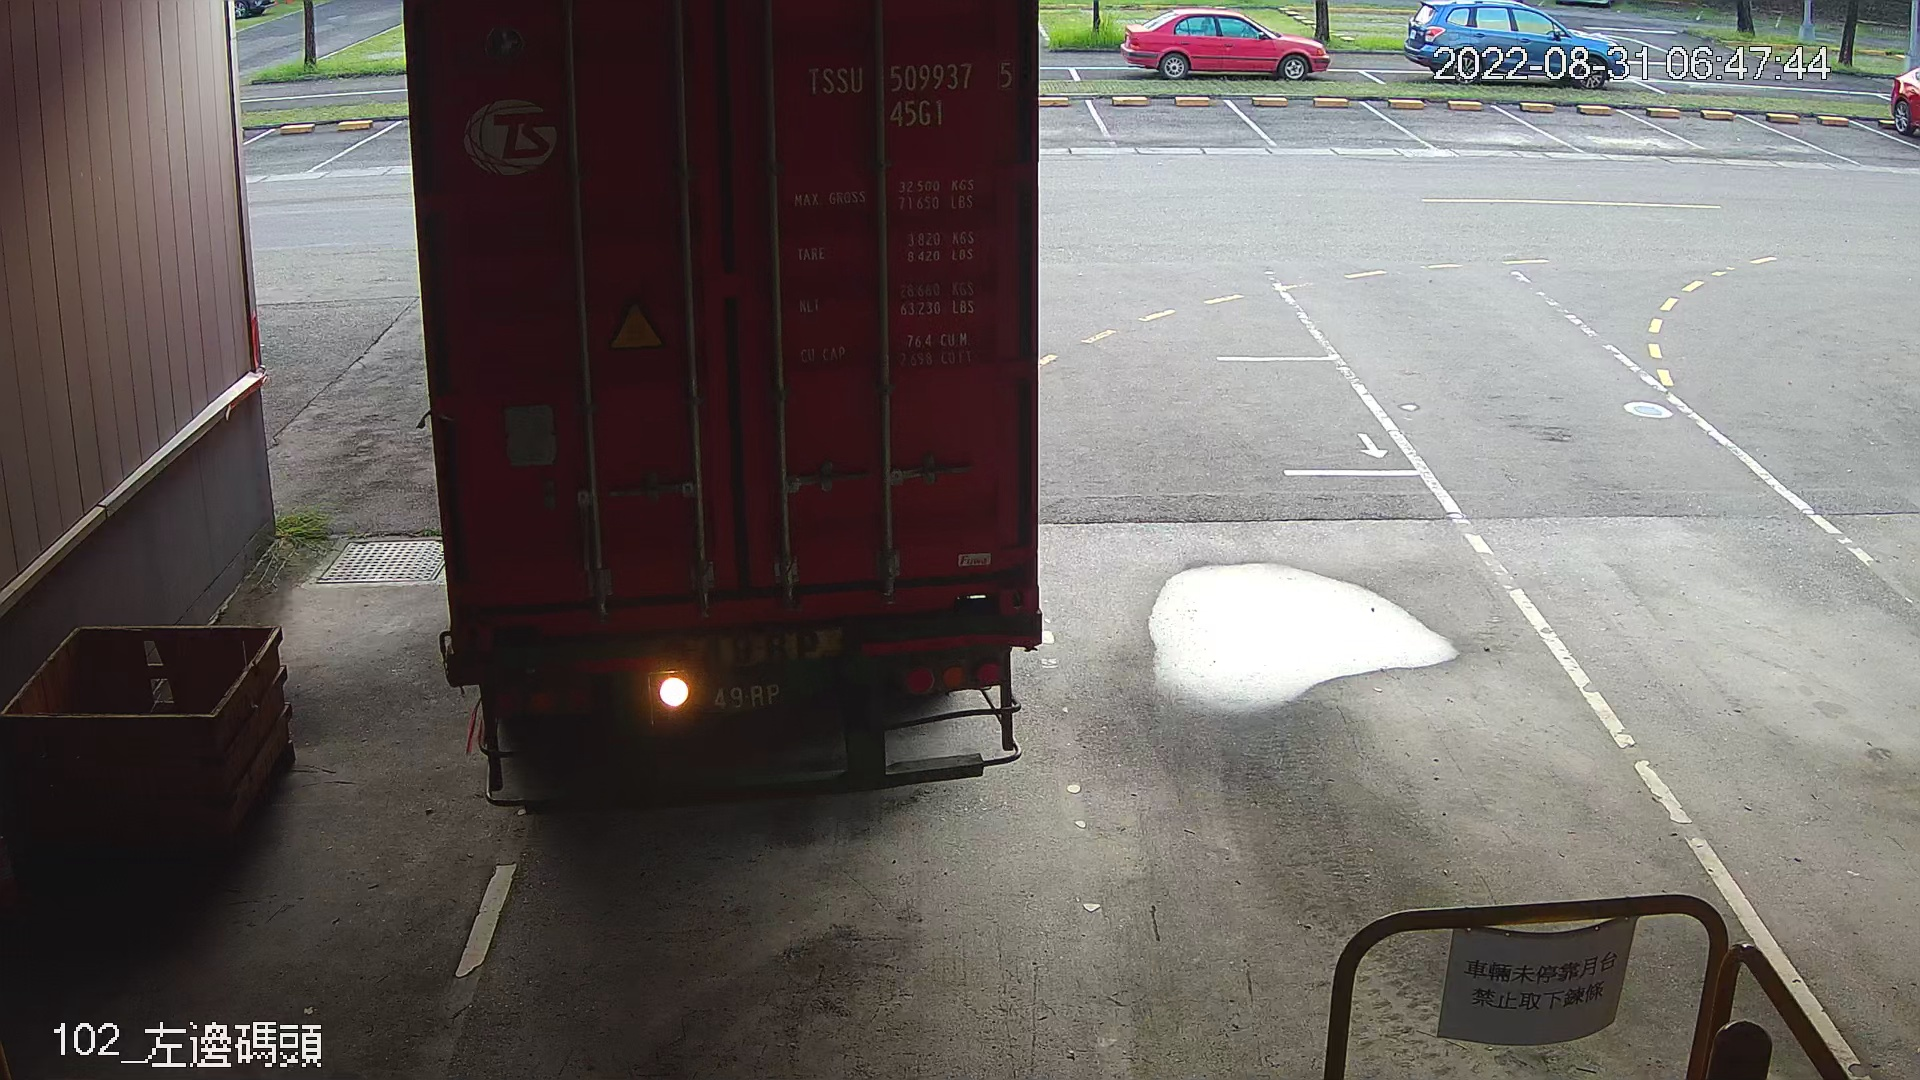container: (800, 49, 1022, 138)
